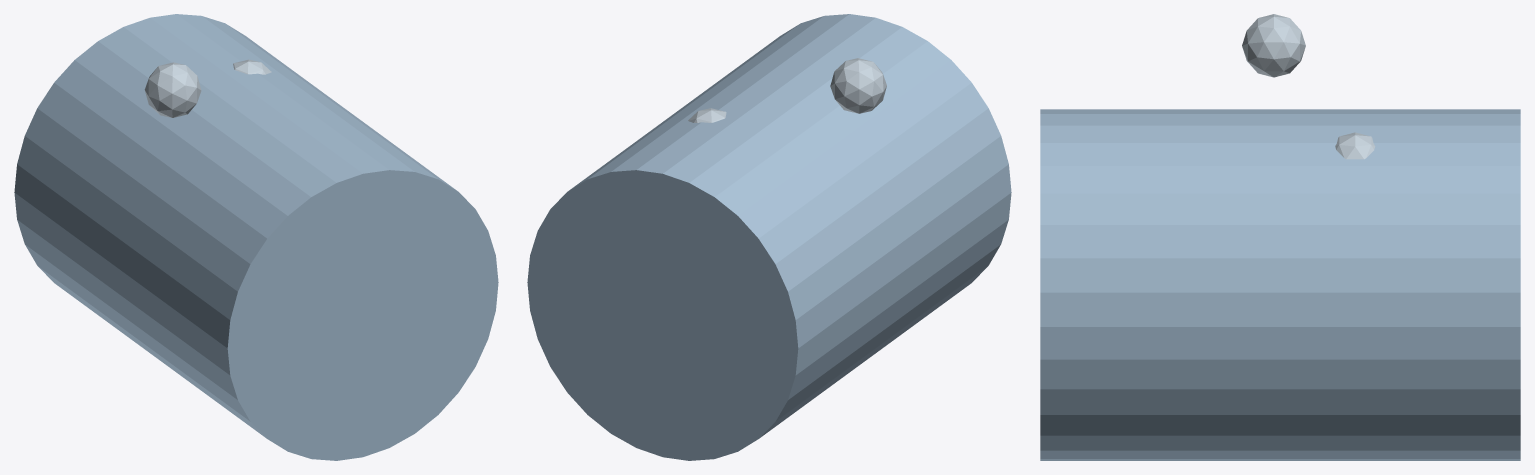
File: dream_spawn.glb
The picture shows the model from 3 angles, left to right: view 1: azimuth 30°, elevation 25°; view 2: azimuth 150°, elevation 25°; view 3: azimuth 270°, elevation 25°; orthographic projection. The views are drawn at different scales.
Visible parts, largest first — view 1: geometry_0; view 2: geometry_0; view 3: geometry_0.
Part boxes in pixels (bbox=[...]): geometry_0: bbox=[14, 14, 498, 460]; geometry_0: bbox=[527, 14, 1011, 460]; geometry_0: bbox=[1040, 14, 1520, 460].
Size of the model in its own units: 0.66 by 0.7869 by 0.9.
